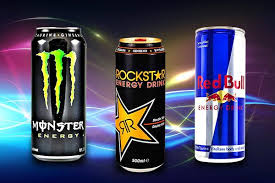can: (27, 20, 92, 180), (190, 18, 257, 166), (109, 28, 177, 165)
